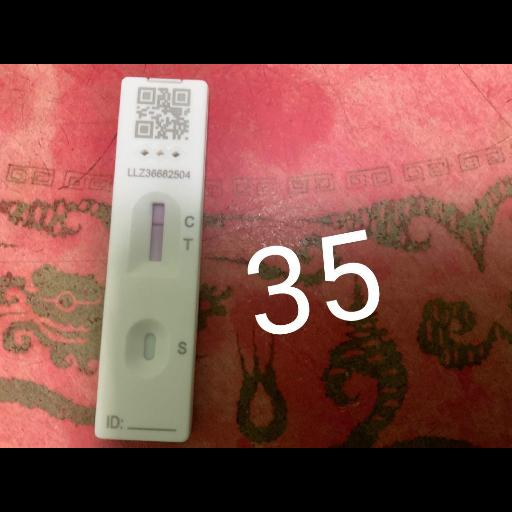Neg: (96, 76, 212, 443)
